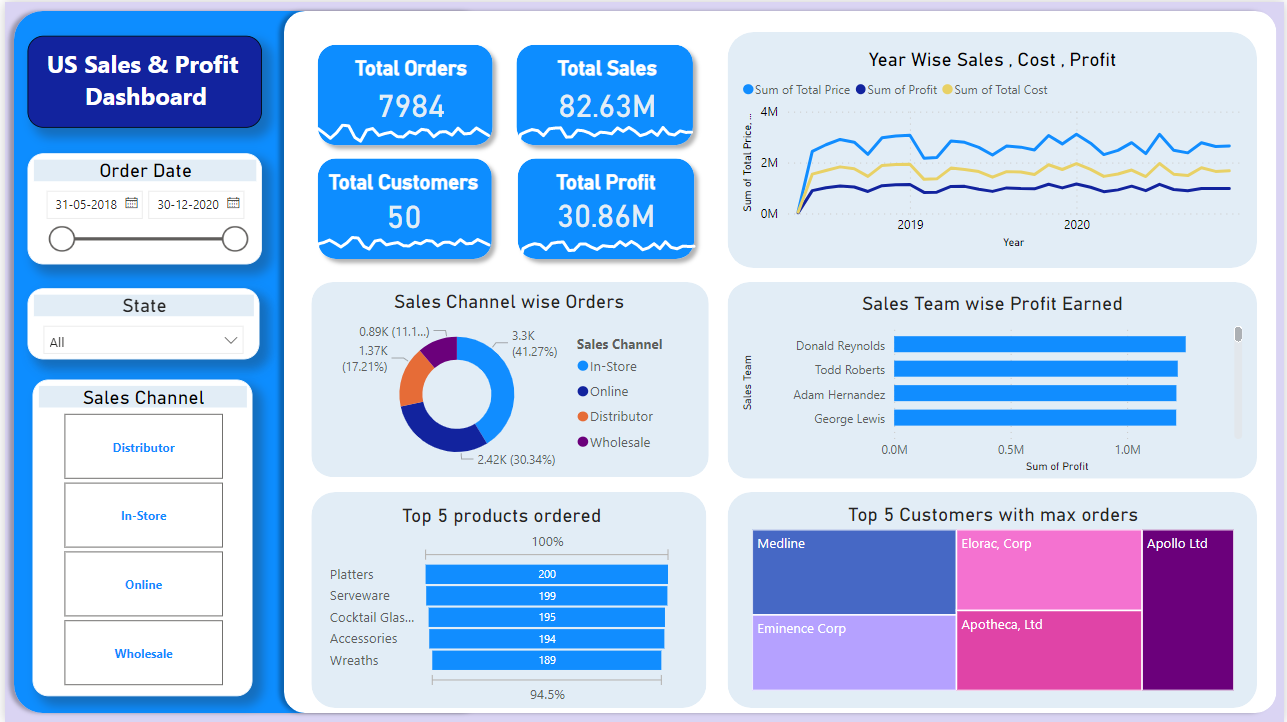

Layout of this report page (visuals, bound fields, positions):
{"tool":"powerbi","page":{"name":"Page 1","canvas":[1280,720],"ordinal":0},"visuals":[{"type":"shape","box":[0,0,498.7,720],"z":0},{"type":"shape","box":[270,0,1010,720],"z":1000},{"type":"shape","box":[303.2,34.2,193.1,118.6],"z":1500},{"type":"textbox","box":[22,34.2,234.7,91.7],"z":2000},{"type":"card","title":"Total Orders","fields":{"Values":["Sales Orders Sheet (2).OrderNumber"]},"box":[309.3,53.8,194.4,72.1],"z":4000},{"type":"shape","box":[502.4,34.2,194.4,118.6],"z":5000},{"type":"card","title":"Total Sales","fields":{"Values":["Sales Orders Sheet (2).Total Price"]},"box":[504.9,53.8,194.4,72.1],"z":6000},{"type":"lineChart","fields":{"Y":["Sales Orders Sheet (2).Total Price"],"Category":["Sales Orders Sheet (2).OrderDate.Variation.Date Hierarchy.Year","Sales Orders Sheet (2).OrderDate.Variation.Date Hierarchy.Month"]},"box":[495.1,102.7,206.6,61.1],"z":7000},{"type":"lineChart","fields":{"Category":["Sales Orders Sheet (2).OrderDate.Variation.Date Hierarchy.Year","Sales Orders Sheet (2).OrderDate.Variation.Date Hierarchy.Month"],"Y":["Sales Orders Sheet (2).OrderNumber"]},"box":[279.9,108.8,218.8,77],"z":8000},{"type":"shape","box":[503.6,147.9,194.4,118.6],"z":9000},{"type":"card","title":"Total Profit","fields":{"Values":["Sales Orders Sheet (2).Profit"]},"box":[503.6,167.5,194.4,66],"z":10000},{"type":"lineChart","fields":{"Category":["Sales Orders Sheet (2).OrderDate.Variation.Date Hierarchy.Year","Sales Orders Sheet (2).OrderDate.Variation.Date Hierarchy.Month"],"Y":["Sales Orders Sheet (2).Profit"]},"box":[497.5,216.4,206.6,61.1],"z":11000},{"type":"shape","box":[303.2,147.9,191.9,118.6],"z":12000},{"type":"card","title":"Total Customers","fields":{"Values":["Sales Orders Sheet (2)._CustomerID"]},"box":[300.7,167.5,194.4,67.2],"z":13000},{"type":"lineChart","fields":{"Category":["Sales Orders Sheet (2).OrderDate.Variation.Date Hierarchy.Year","Sales Orders Sheet (2).OrderDate.Variation.Date Hierarchy.Month"],"Y":["Sales Orders Sheet (2)._CustomerID"]},"box":[292.2,221.3,206.6,61.1],"z":14000},{"type":"shape","box":[722.4,30.6,529.3,235.9],"z":15000},{"type":"lineChart","title":"Year Wise Sales , Cost , Profit ","fields":{"Category":["Sales Orders Sheet (2).OrderDate.Variation.Date Hierarchy.Year","Sales Orders Sheet (2).OrderDate.Variation.Date Hierarchy.Month"],"Y":["Sales Orders Sheet (2).Total Price","Sales Orders Sheet (2).Profit","Sales Orders Sheet (2).Total Cost"]},"box":[732.2,46.5,509.7,205.4],"z":16000},{"type":"shape","box":[306.8,279.9,397.3,195.6],"z":17000},{"type":"donutChart","title":"Sales Channel wise Orders","fields":{"Category":["Sales Orders Sheet (2).Sales Channel"],"Y":["Sales Orders Sheet (2).OrderNumber"]},"box":[327.6,288.5,353.3,185.8],"z":18000},{"type":"shape","box":[722.4,279.9,529.3,196.8],"z":19000},{"type":"barChart","title":"Sales Team wise Profit Earned","fields":{"Category":["Sales Team Sheet (2).Sales Team"],"Y":["Sales Orders Sheet (2).Profit"]},"box":[732.2,289.7,509.7,185.8],"z":20000},{"type":"shape","box":[306.8,490.2,394.8,216.4],"z":21000},{"type":"funnel","title":"Top 5 products ordered","fields":{"Category":["Products Sheet (2).Product Name"],"Y":["Sales Orders Sheet (2).OrderNumber"]},"box":[320.3,502.4,353.3,204.1],"z":22000},{"type":"shape","box":[722.4,490.2,529.3,216.4],"z":23000},{"type":"treemap","title":"Top 5 Customers with max orders","fields":{"Group":["Customers Sheet (2).Customer Names"],"Values":["Sales Orders Sheet (2).OrderNumber"]},"box":[742,501.2,491.4,191.9],"z":24000},{"type":"slicer","title":"Sales Channel","fields":{"Values":["Sales Orders Sheet (2).Sales Channel"]},"box":[28.1,377.7,220,316.6],"z":25000},{"type":"slicer","title":"Order Date","fields":{"Values":["Sales Orders Sheet (2).OrderDate"]},"box":[22,151.6,234.7,111.2],"z":26000},{"type":"slicer","title":"State","fields":{"Values":["Regions Sheet (2).State"]},"box":[22,286,232.3,70.9],"z":27000}]}

Visuals, with their boxes in screenshot pixels (x1, y1, x2, y2), scaled from the page's 1280x720 canvas onto the 1287x722 screenshot:
shape: <bbox>0, 0, 501, 721</bbox>
shape: <bbox>271, 0, 1286, 721</bbox>
shape: <bbox>305, 34, 499, 153</bbox>
textbox: <bbox>22, 34, 258, 126</bbox>
"Total Orders" card: <bbox>311, 54, 506, 126</bbox>
shape: <bbox>505, 34, 701, 153</bbox>
"Total Sales" card: <bbox>508, 54, 703, 126</bbox>
lineChart - Sales Orders Sheet (2).Total Price x Sales Orders Sheet (2).OrderDate.Variation.Date Hierarchy.Year: <bbox>498, 103, 706, 164</bbox>
lineChart - Sales Orders Sheet (2).OrderDate.Variation.Date Hierarchy.Year x Sales Orders Sheet (2).OrderDate.Variation.Date Hierarchy.Month: <bbox>281, 109, 501, 186</bbox>
shape: <bbox>506, 148, 702, 267</bbox>
"Total Profit" card: <bbox>506, 168, 702, 234</bbox>
lineChart - Sales Orders Sheet (2).OrderDate.Variation.Date Hierarchy.Year x Sales Orders Sheet (2).OrderDate.Variation.Date Hierarchy.Month: <bbox>500, 217, 708, 278</bbox>
shape: <bbox>305, 148, 498, 267</bbox>
"Total Customers" card: <bbox>302, 168, 498, 235</bbox>
lineChart - Sales Orders Sheet (2).OrderDate.Variation.Date Hierarchy.Year x Sales Orders Sheet (2).OrderDate.Variation.Date Hierarchy.Month: <bbox>294, 222, 502, 283</bbox>
shape: <bbox>726, 31, 1259, 267</bbox>
"Year Wise Sales , Cost , Profit " lineChart: <bbox>736, 47, 1249, 253</bbox>
shape: <bbox>308, 281, 708, 477</bbox>
"Sales Channel wise Orders" donutChart: <bbox>329, 289, 685, 476</bbox>
shape: <bbox>726, 281, 1259, 478</bbox>
"Sales Team wise Profit Earned" barChart: <bbox>736, 291, 1249, 477</bbox>
shape: <bbox>308, 492, 705, 709</bbox>
"Top 5 products ordered" funnel: <bbox>322, 504, 677, 708</bbox>
shape: <bbox>726, 492, 1259, 709</bbox>
"Top 5 Customers with max orders" treemap: <bbox>746, 503, 1240, 695</bbox>
"Sales Channel" slicer: <bbox>28, 379, 249, 696</bbox>
"Order Date" slicer: <bbox>22, 152, 258, 264</bbox>
"State" slicer: <bbox>22, 287, 256, 358</bbox>
